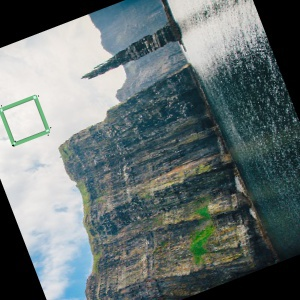square: (1, 93, 53, 149)
